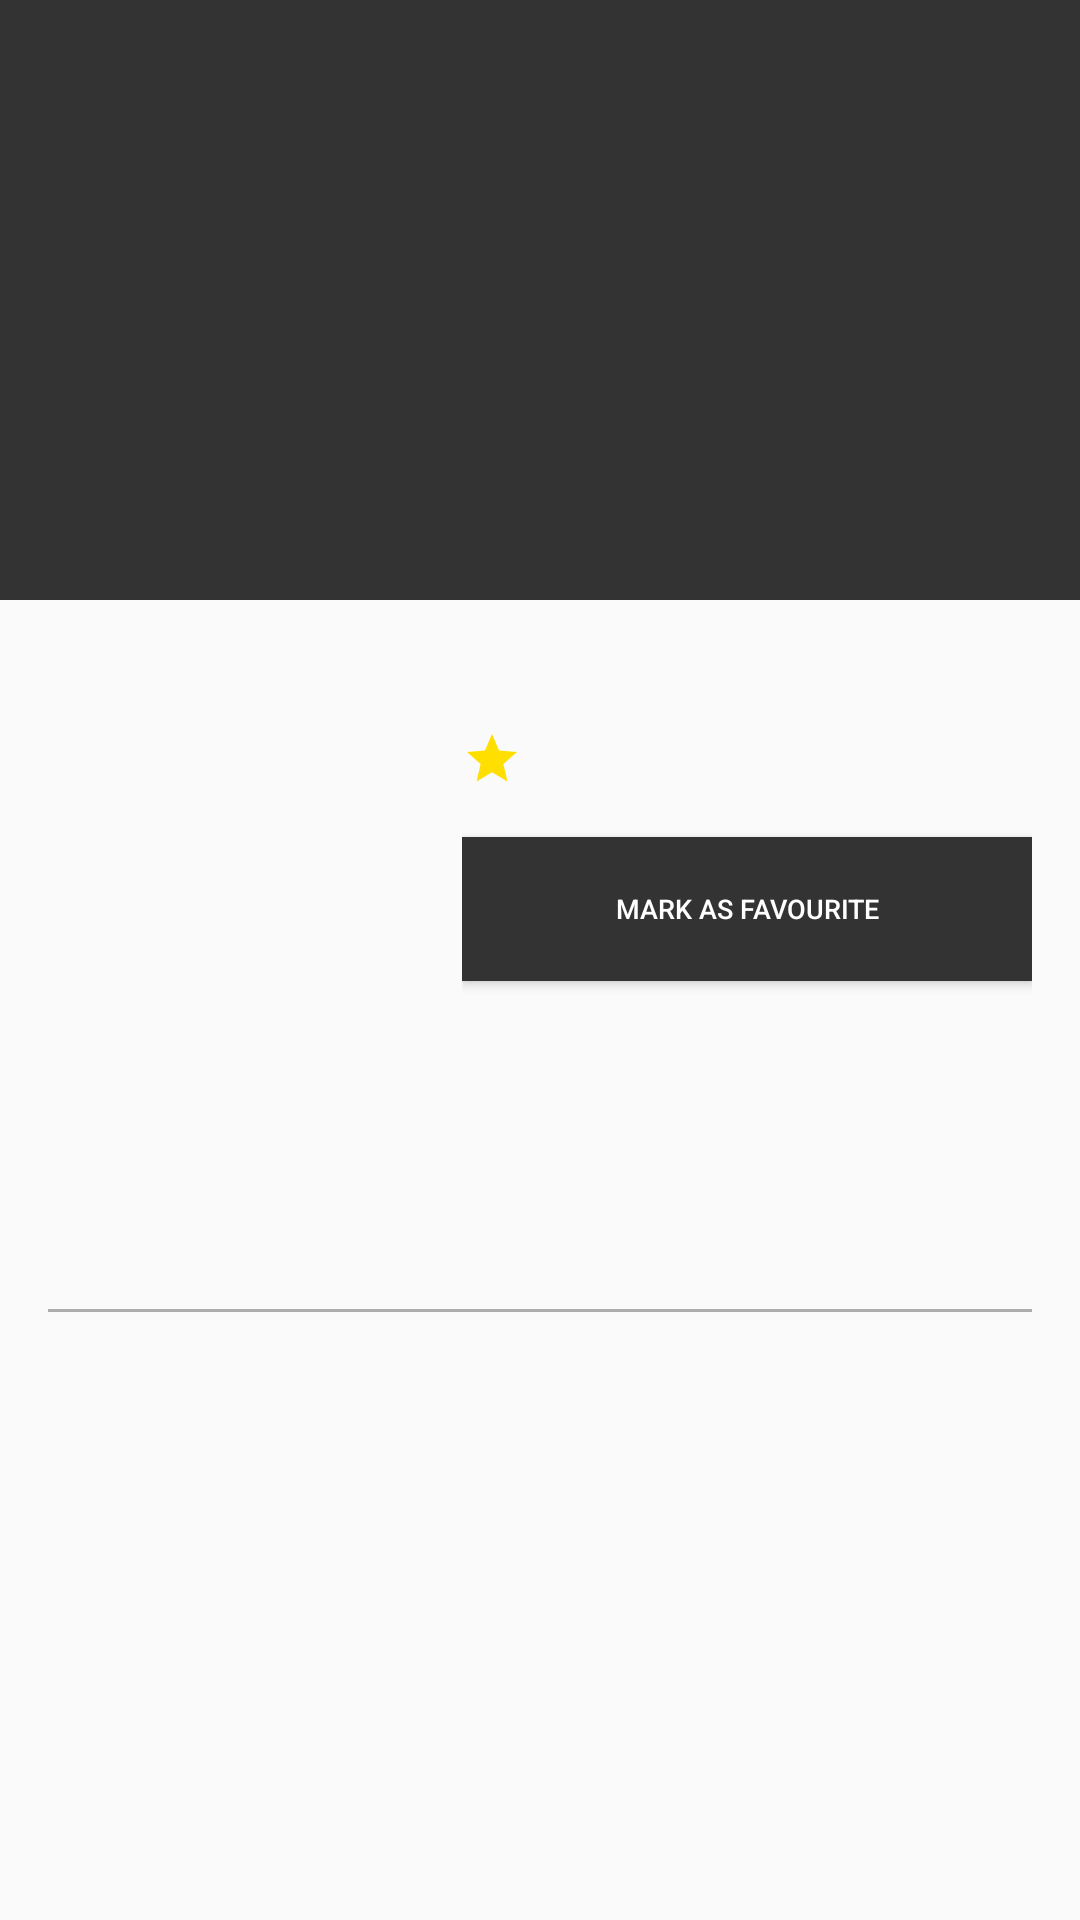

Icon bounding boxes for this 1080px×1920px phone screenshot, format {"x1": x1, "y1": y1, "x2": x2, "y2": y2}:
star: {"x1": 467, "y1": 734, "x2": 517, "y2": 782}
